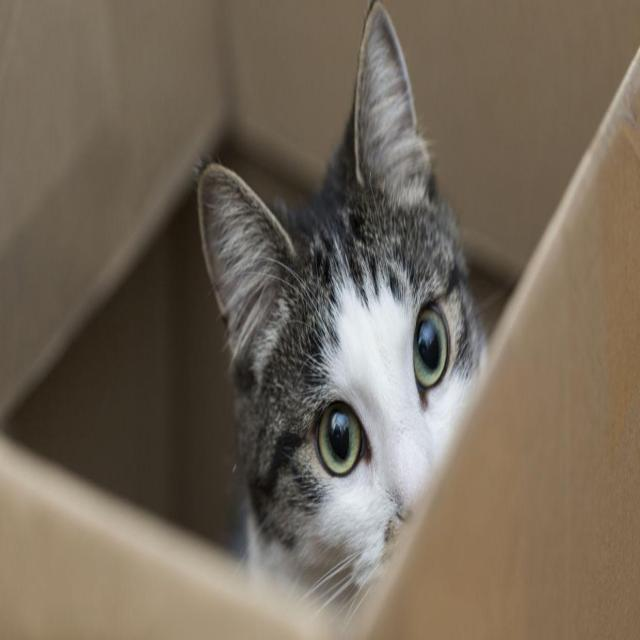Cat: (191, 0, 506, 612)
